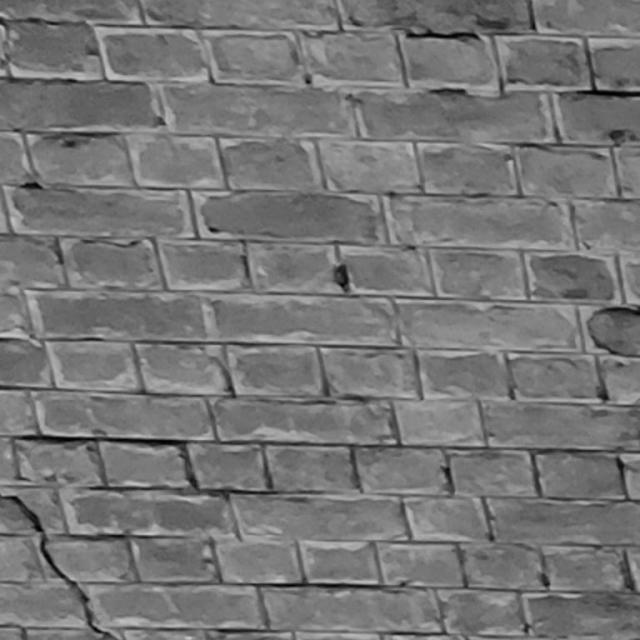crack: (1, 495, 113, 640)
